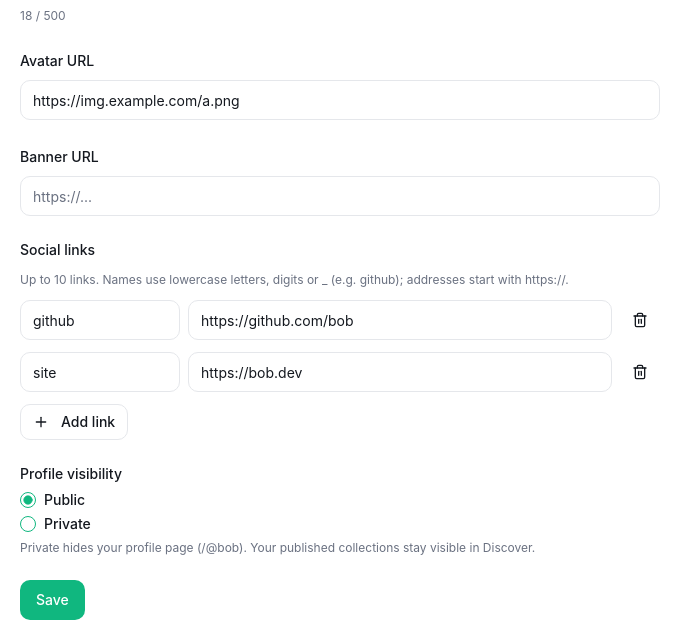
social links › 7: duplicate names and a partly filled row block save
(page scrolled)
Replace the text in the field named "Link 2 name" with "github" at (100, 372), box left=20, top=352, right=180, bottom=392
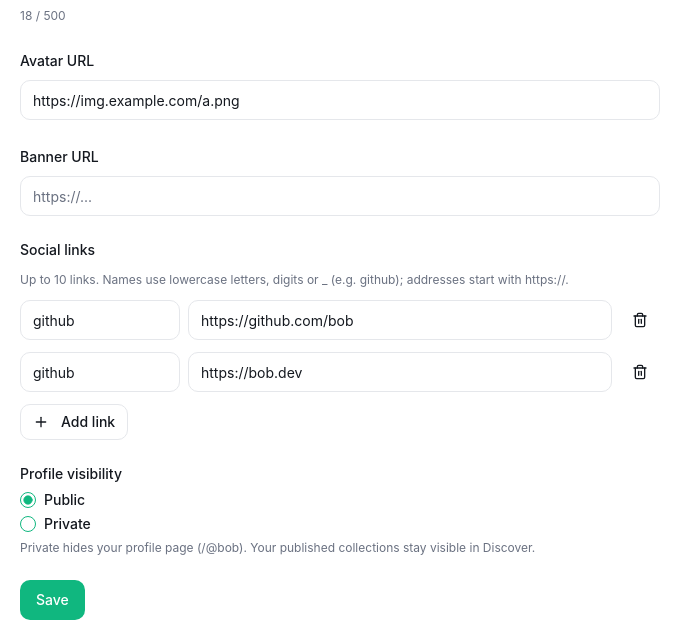
Click the button "Add link" at (74, 422), box left=20, top=404, right=128, bottom=440
(page scrolled)
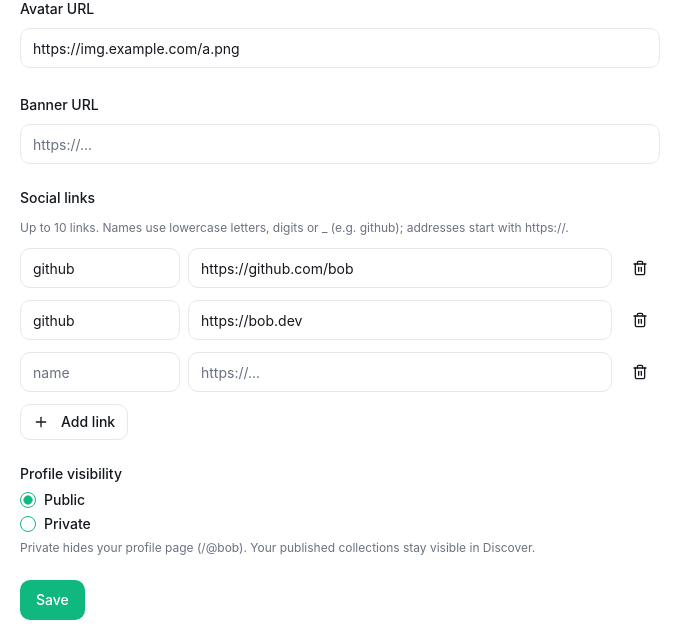
Type "blog" into the field named "Link 3 name" at (100, 372), box left=20, top=352, right=180, bottom=392
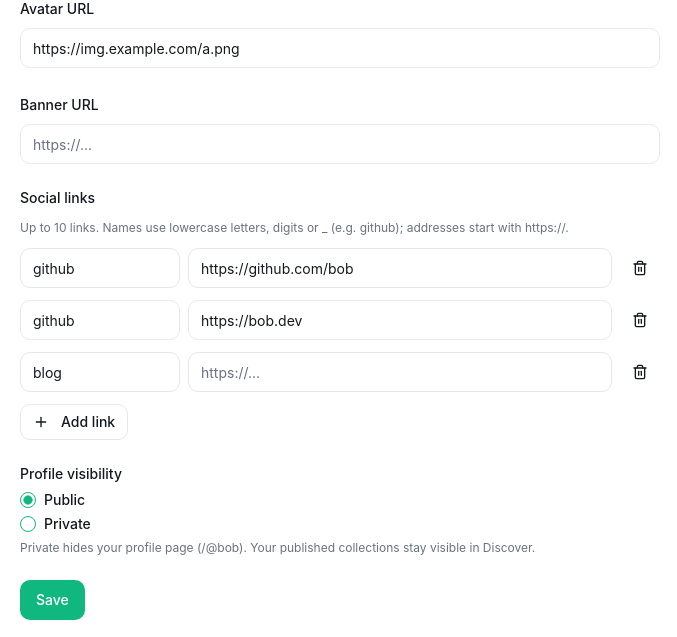
Click the button "Save" at (52, 600), box left=20, top=580, right=85, bottom=620
(page scrolled)
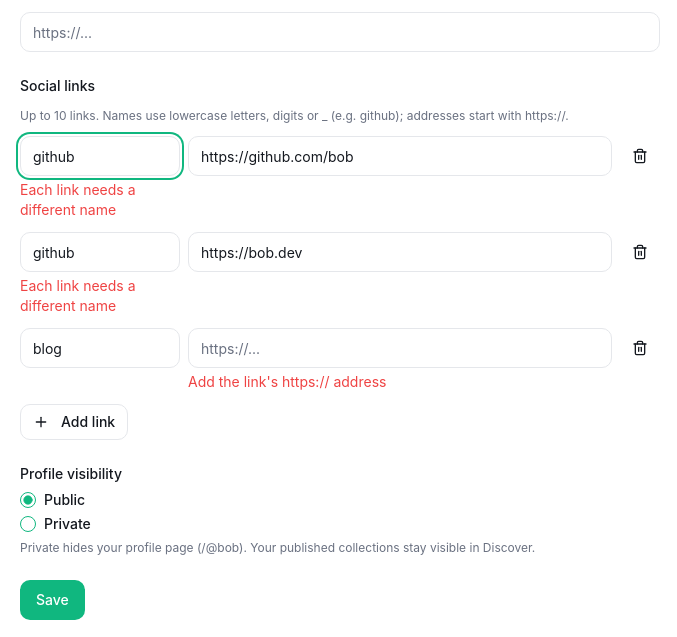
Check: the text "Each link needs a different name" is shown 2 times, box left=20, top=181, right=136, bottom=218; left=20, top=277, right=136, bottom=314
Check: the text "Add the link's https:// address" is shown, box left=188, top=373, right=386, bottom=390
